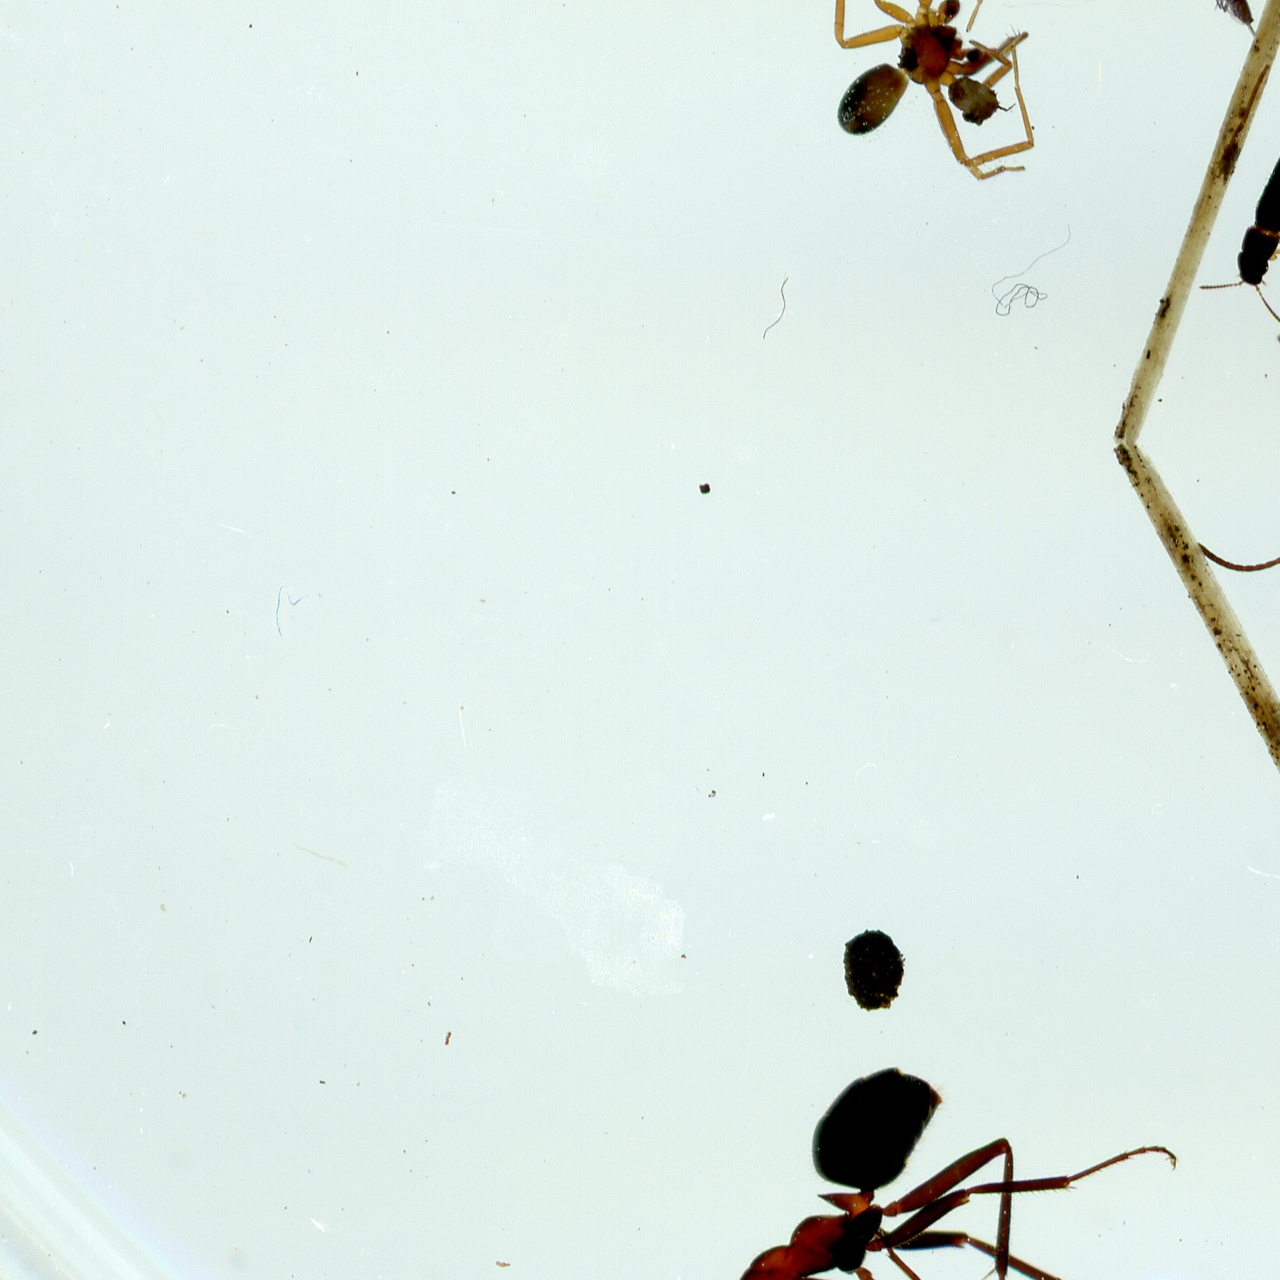arthropod: (663, 1053, 1213, 1280), (824, 0, 1037, 184), (1186, 261, 1280, 625), (1190, 107, 1280, 333), (1179, 0, 1259, 48)
